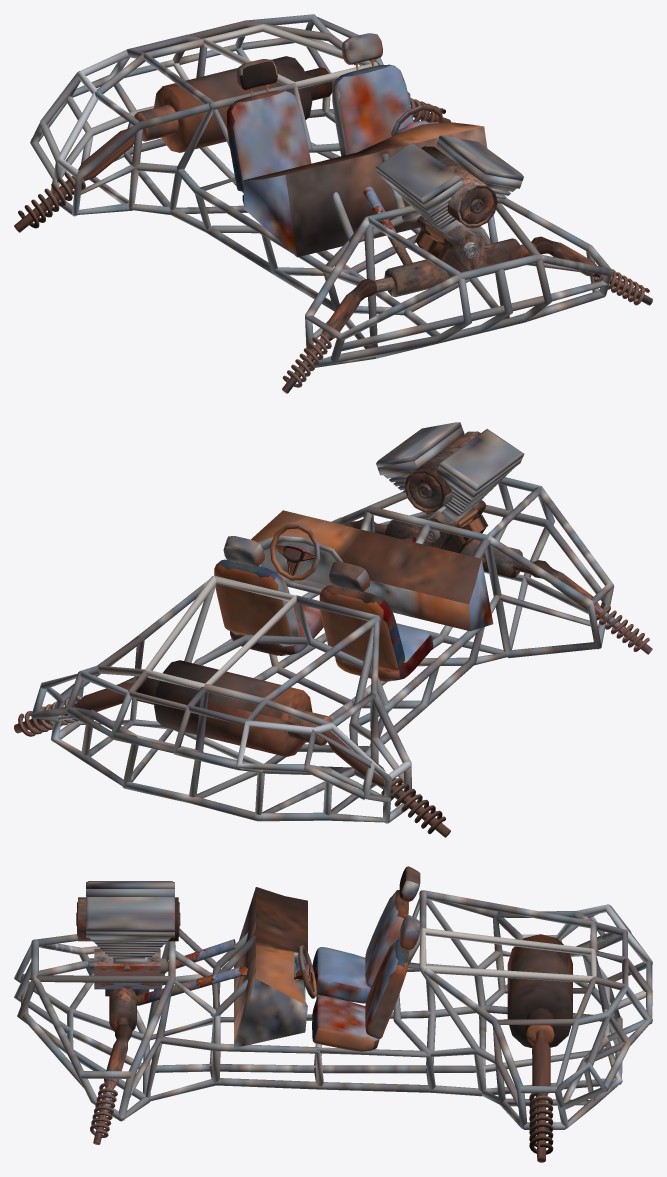
File: Coche_Malo_02_carroceria.fbx
3 renders of one model, top to bottom at view 1: azimuth 30°, elevation 25°; view 2: azimuth 150°, elevation 25°; view 3: azimuth 270°, elevation 25°, orthographic. The views are drawn at different scales.
Parts seen in each view (by area): view 1: Plane.002; view 2: Plane.002; view 3: Plane.002.
Part boxes in pixels (left/top/right/bottom): Plane.002: left=14, top=14, right=652, bottom=393; Plane.002: left=14, top=422, right=652, bottom=837; Plane.002: left=14, top=866, right=652, bottom=1162.
Bounding box in the file's own units: 736 × 313 × 991.
